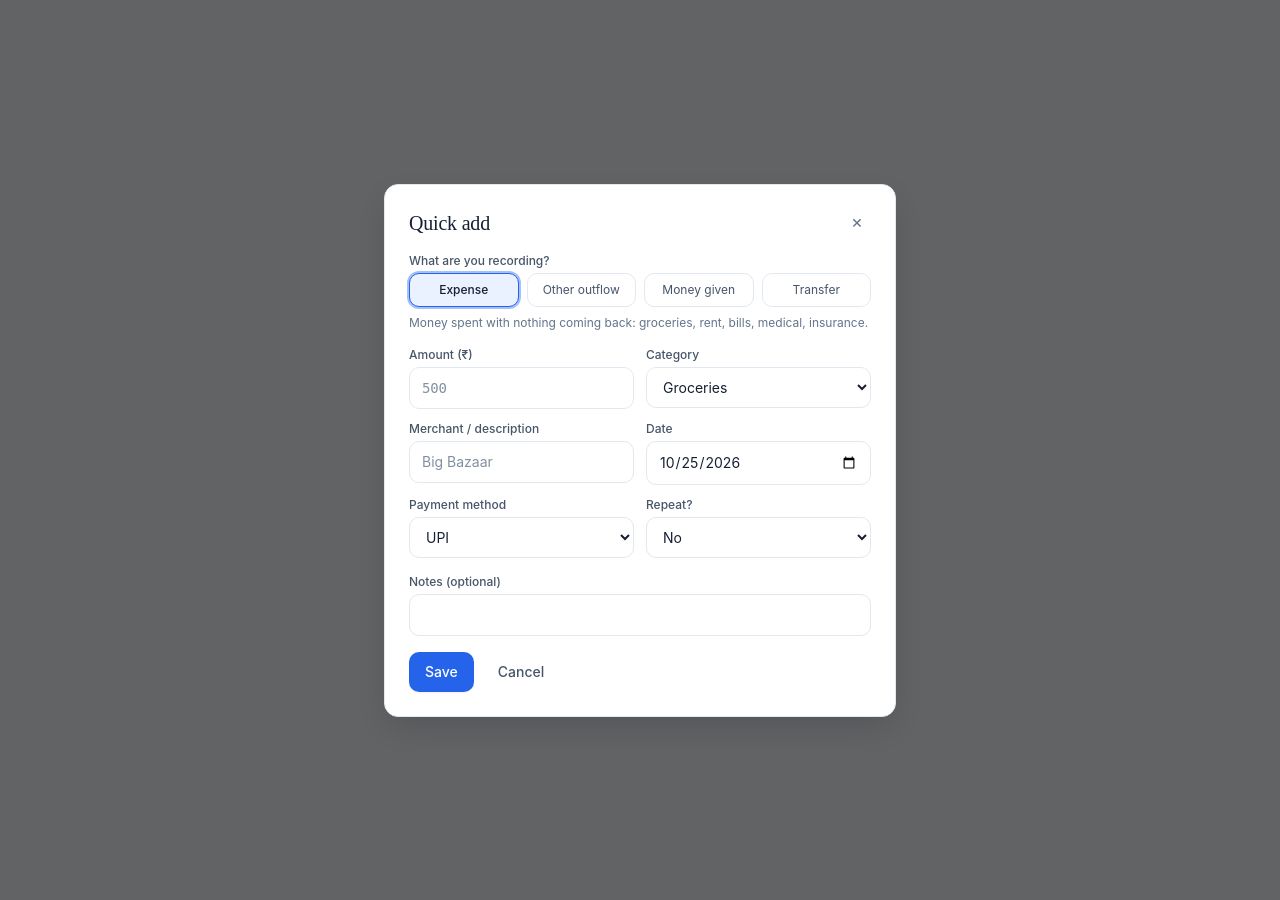
QuickExpenseDialog › announces the change so the page, dashboard and reports refresh without a reload
In the number field labelled "Amount (₹)": coordinates (522, 388) [409,366,634,408], type "120"
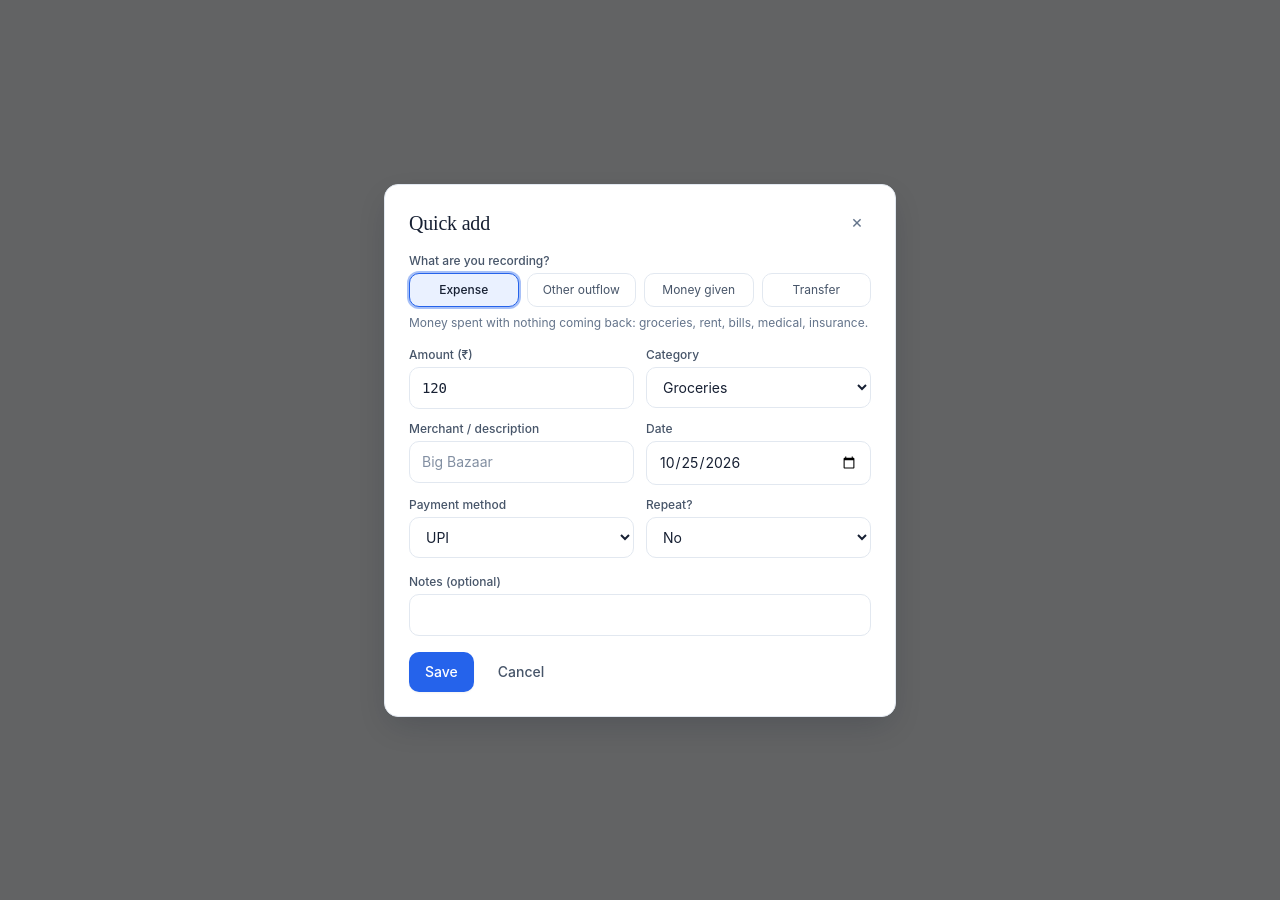
Click the button "Save": coordinates (441, 672) [409,652,474,692]
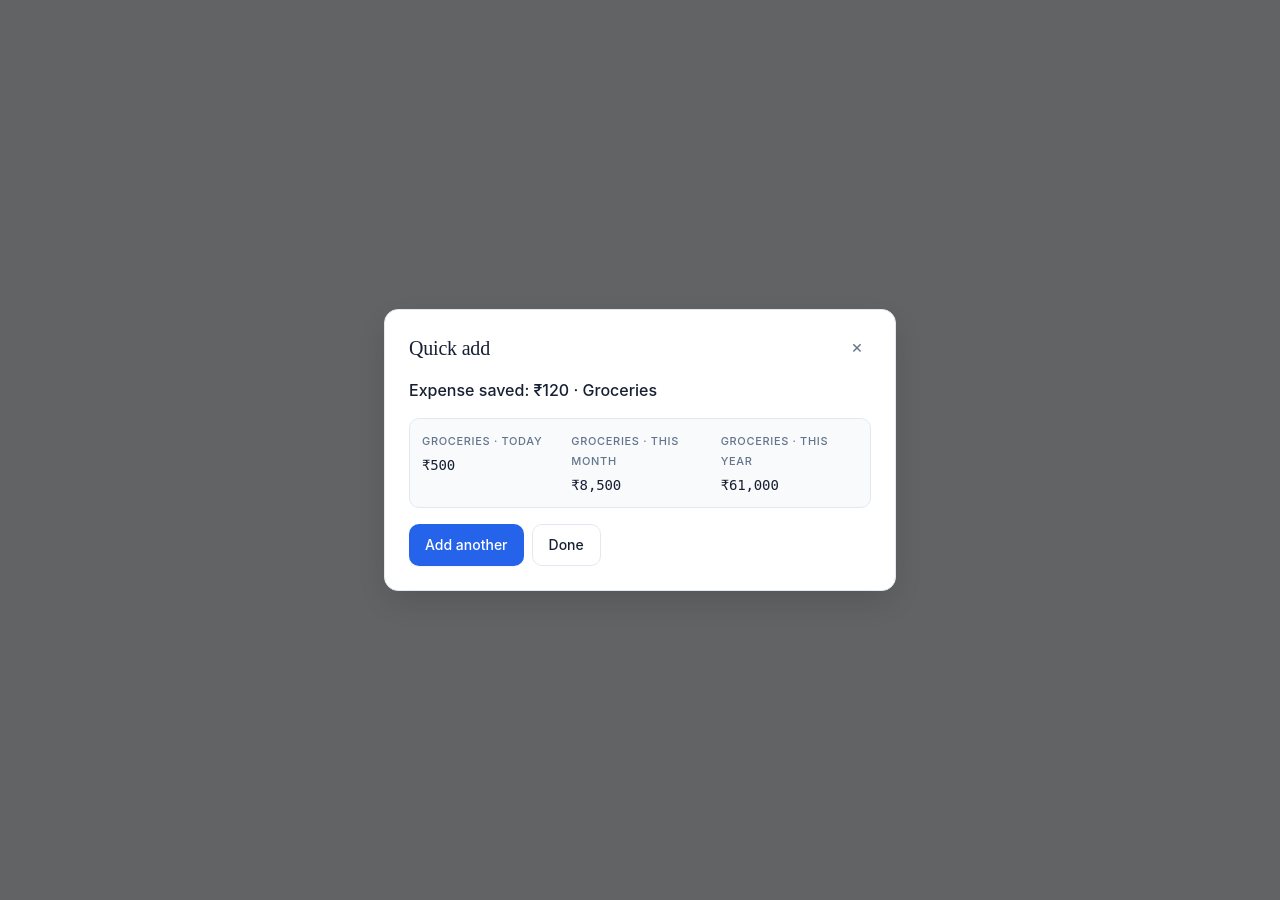
Expected: the message is shown, [409,378,871,566]
